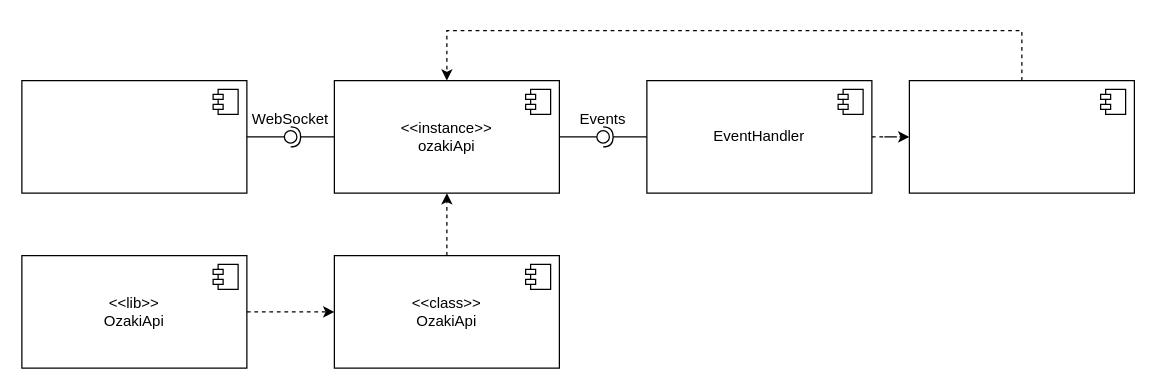
Image size: 1156x390. Some labels were removed from this diagram. The centre of each missing label's shape, as x and y in pixels:
"Server" belongs at (x=134, y=136).
"UI" belongs at (x=1021, y=136).
